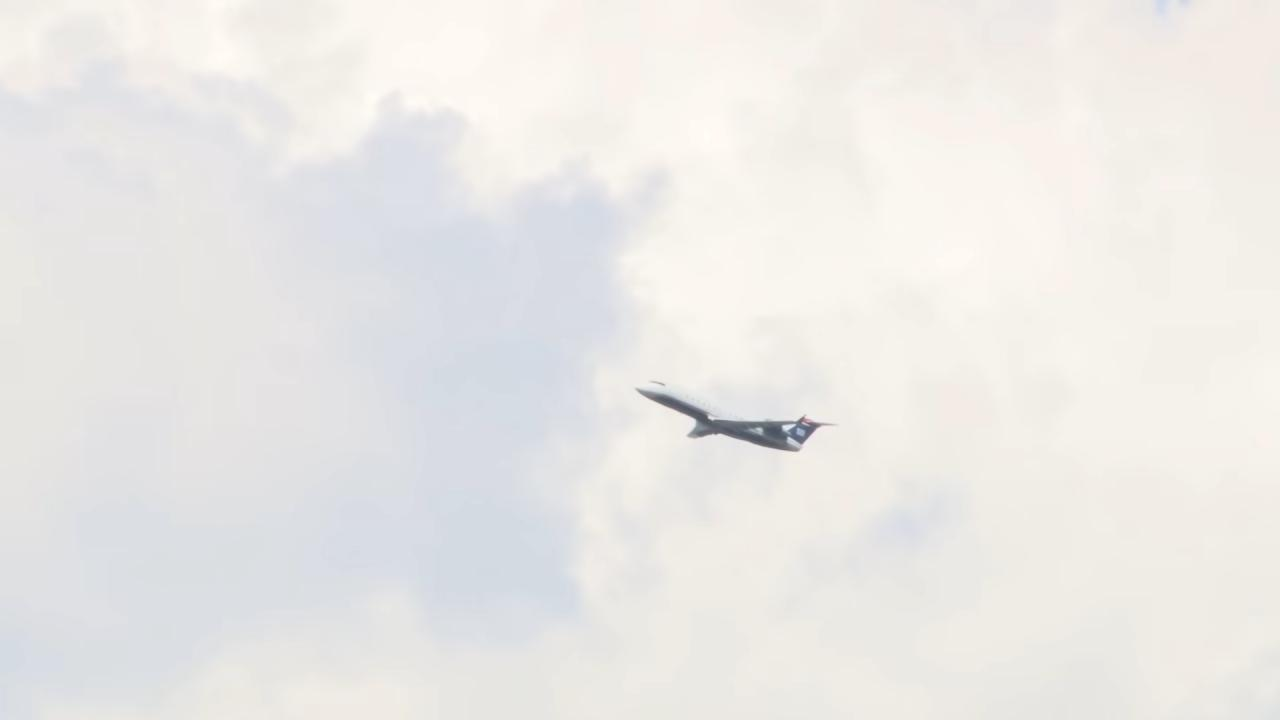Airplane: (619, 363, 846, 467)
